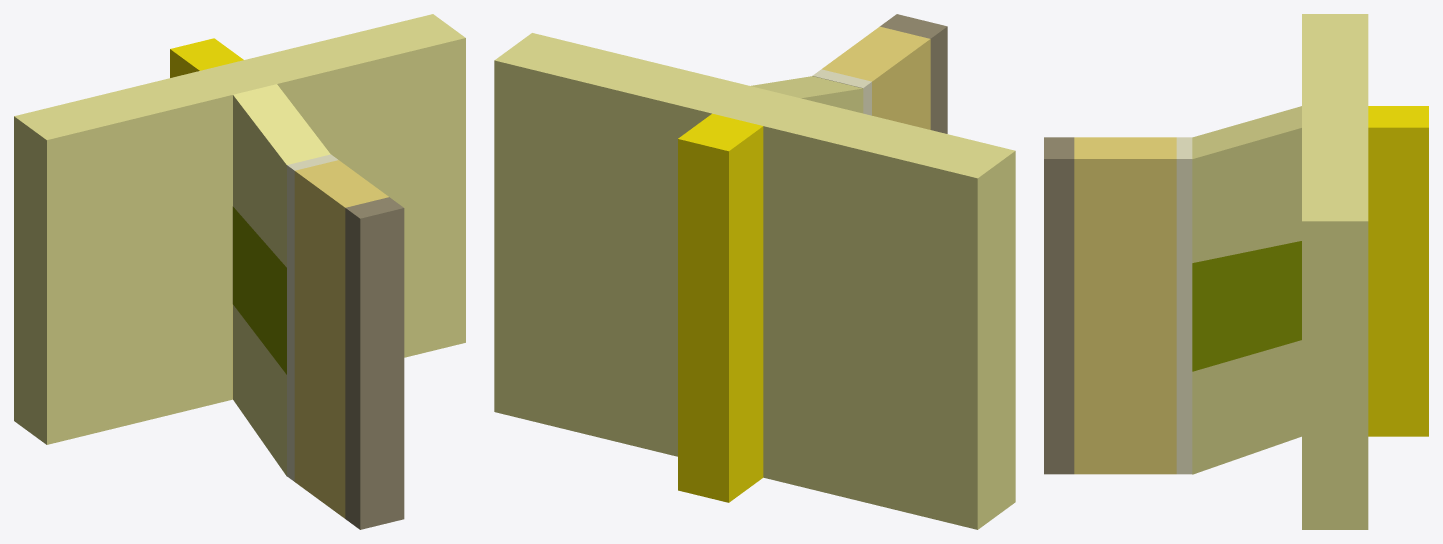
File: SpinePhantom.fbx
3 views of the same model, side by side, from view 1: azimuth 30°, elevation 25°; view 2: azimuth 150°, elevation 25°; view 3: azimuth 270°, elevation 25° (orthographic). The views are drawn at different scales.
Visible parts, largest first — view 1: LeftBone, RightBone, Skin, Subcutaneous, L4process, Interspinous, L5process, Supraspinous, Dura, UpperBone; view 2: LeftBone, RightBone, Dura, Subcutaneous, Skin, L4process, UpperBone, Supraspinous; view 3: Subcutaneous, RightBone, Dura, L4process, Interspinous, L5process, Skin, LeftBone, Supraspinous, UpperBone.
Boxes of the visible parts, <box> form: LeftBone: <box>14,71,232,444</box>; RightBone: <box>244,14,465,357</box>; Skin: <box>345,197,404,529</box>; Subcutaneous: <box>294,160,388,518</box>; L4process: <box>233,84,330,267</box>; Interspinous: <box>233,207,286,374</box>; L5process: <box>233,305,286,476</box>; Supraspinous: <box>287,154,337,481</box>; Dura: <box>170,38,243,77</box>; UpperBone: <box>200,60,276,205</box>; LeftBone: <box>763,98,1015,529</box>; RightBone: <box>494,33,749,456</box>; Dura: <box>678,113,763,502</box>; Subcutaneous: <box>822,26,930,129</box>; Skin: <box>880,14,947,133</box>; L4process: <box>751,76,863,113</box>; UpperBone: <box>712,86,800,125</box>; Supraspinous: <box>812,69,871,115</box>; Subcutaneous: <box>1074,137,1176,474</box>; RightBone: <box>1302,127,1368,529</box>; Dura: <box>1368,106,1428,436</box>; L4process: <box>1192,106,1301,262</box>; Interspinous: <box>1192,241,1301,371</box>; L5process: <box>1192,340,1301,474</box>; Skin: <box>1044,137,1074,474</box>; LeftBone: <box>1302,14,1368,105</box>; Supraspinous: <box>1176,137,1192,474</box>; UpperBone: <box>1302,106,1368,127</box>.
Size of the model in its own units: 4.15 by 3.24 by 3.25.
